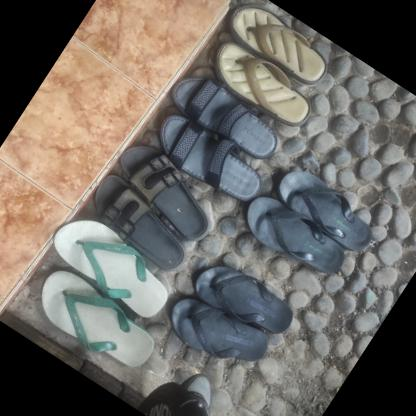Black Slide A: (99, 131, 231, 246), (79, 168, 206, 276)
Black Slide B: (137, 98, 274, 212), (166, 63, 288, 164)
Black Swallow A: (158, 280, 277, 385), (185, 247, 303, 348)
Black Swallow B: (235, 186, 364, 292), (271, 162, 382, 254)
Brown Flip Flop: (202, 33, 322, 136), (220, 0, 347, 95)
Green Swallow: (9, 250, 166, 381), (39, 202, 183, 326)
